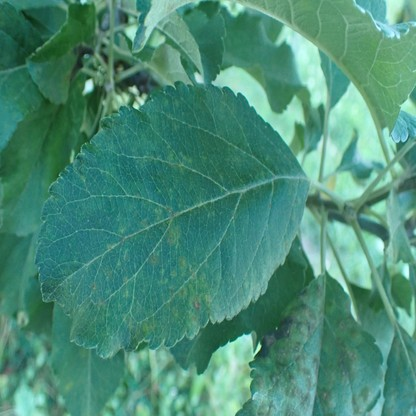scab: (40, 87, 301, 352), (251, 279, 384, 416), (387, 329, 416, 415), (61, 70, 72, 100)
